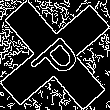P_NE: (24, 25, 86, 85)
